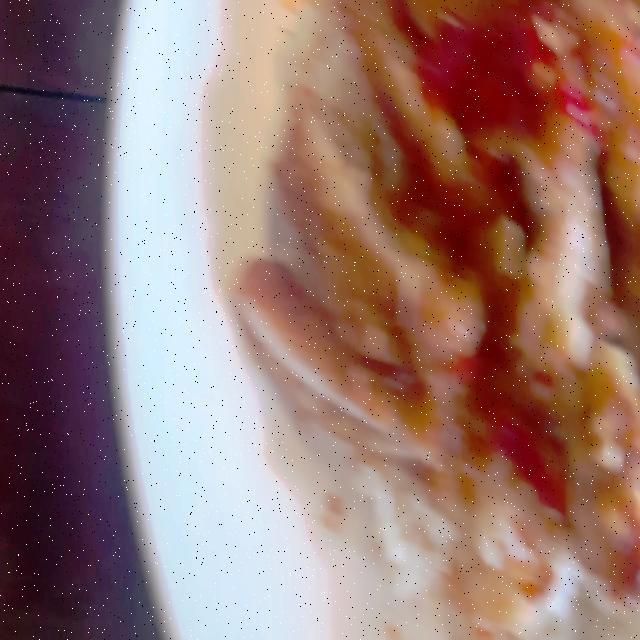chicken_rice: (221, 0, 640, 640)
fried_chicken: (234, 0, 640, 602)
